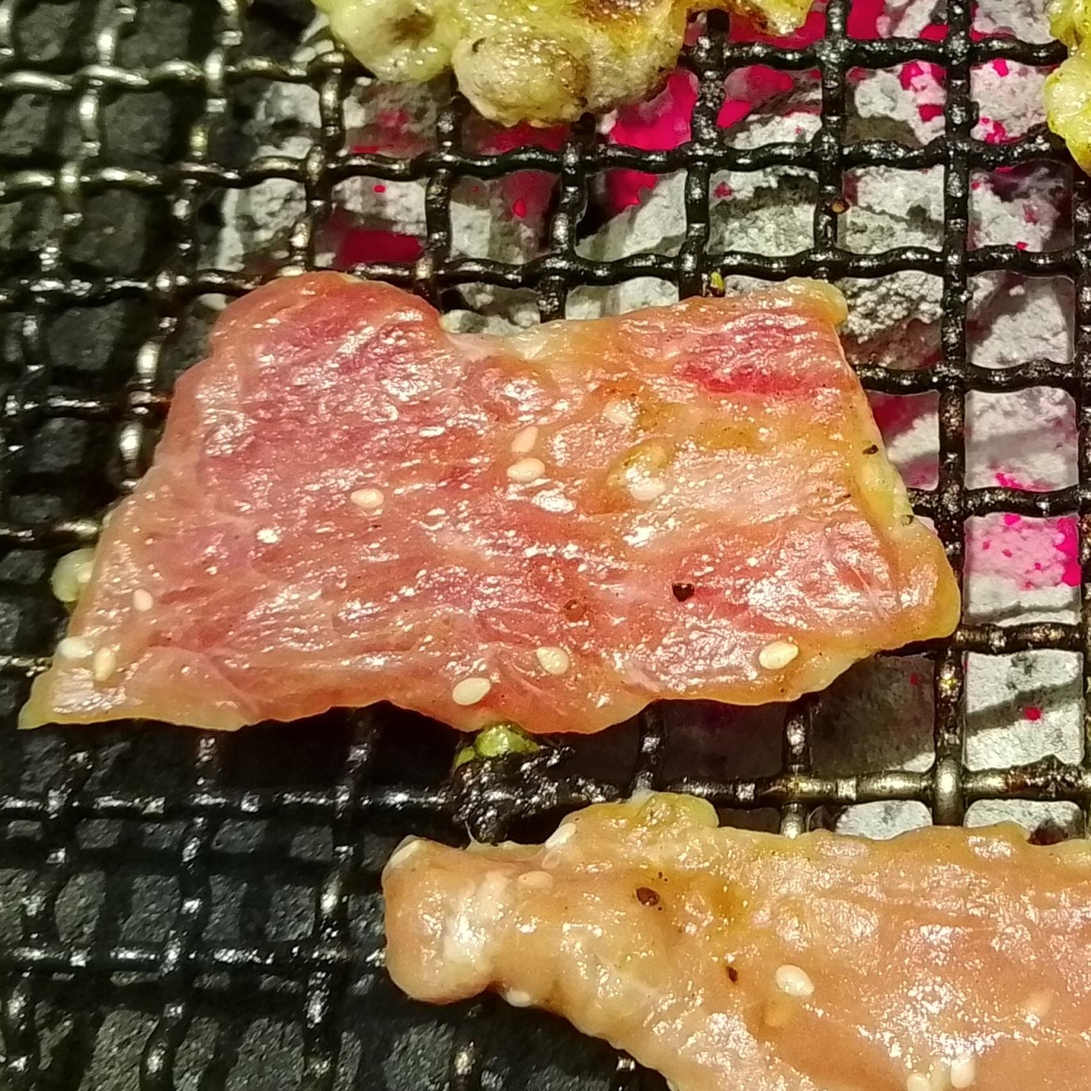Undercooked: (19, 273, 966, 740), (379, 794, 1090, 1090)
